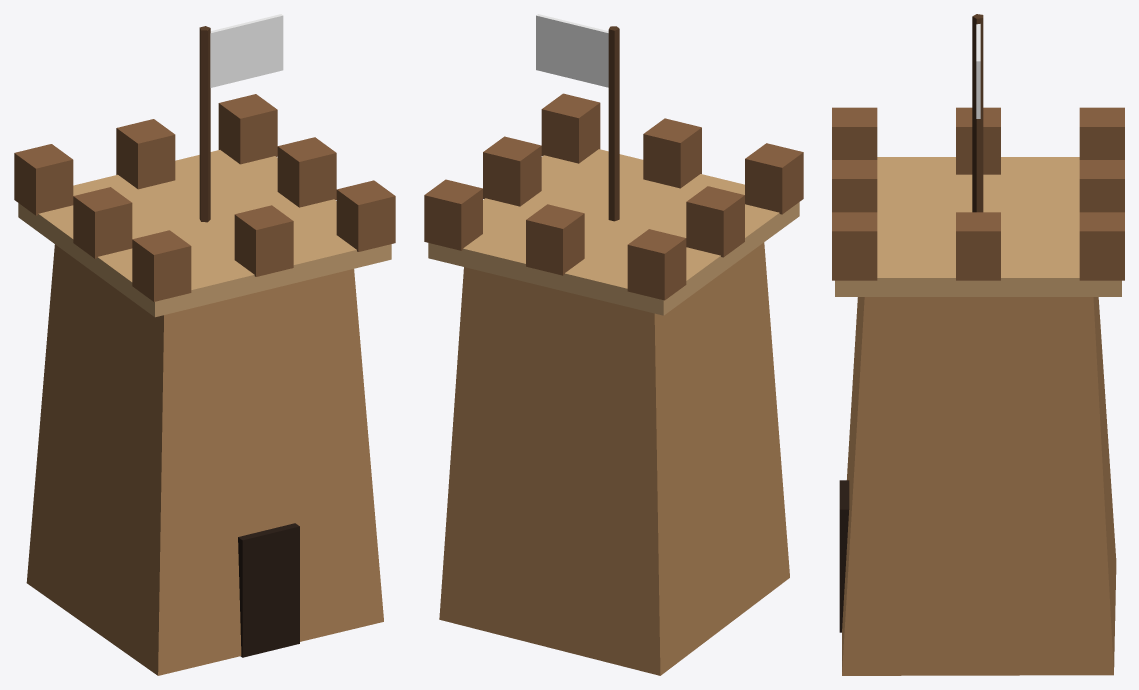
File: tower.glb
3 views of the same model, side by side, from view 1: azimuth 30°, elevation 25°; view 2: azimuth 150°, elevation 25°; view 3: azimuth 270°, elevation 25° (orthographic). The views are drawn at different scales.
Parts seen in each view (by area): view 1: part, part.001, part.010, part.012, part.002, part.005, part.007, part.003, part.004, part.008, part.009, part.006 (+1 smaller); view 2: part, part.001, part.012, part.004, part.009, part.007, part.006, part.002, part.003, part.008, part.005, part.011; view 3: part, part.001, part.007, part.009, part.008, part.002, part.004, part.005, part.006, part.003, part.011, part.010 (+1 smaller).
Part boxes in pixels (<box>): part: <box>26,244,383,675</box>; part.001: <box>18,150,391,317</box>; part.010: <box>238,523,299,657</box>; part.012: <box>210,14,283,87</box>; part.002: <box>132,230,191,301</box>; part.005: <box>234,205,293,276</box>; part.007: <box>336,180,395,251</box>; part.003: <box>73,187,132,258</box>; part.004: <box>14,144,73,215</box>; part.008: <box>277,137,336,207</box>; part.009: <box>218,94,277,164</box>; part.006: <box>116,119,175,189</box>; part: <box>439,242,789,675</box>; part.001: <box>428,149,799,315</box>; part.012: <box>536,14,608,87</box>; part.004: <box>627,229,686,300</box>; part.009: <box>424,179,482,250</box>; part.007: <box>541,93,600,163</box>; part.006: <box>526,204,584,275</box>; part.002: <box>745,143,803,214</box>; part.003: <box>686,186,744,257</box>; part.008: <box>483,136,541,206</box>; part.005: <box>643,118,701,188</box>; part.011: <box>608,26,619,221</box>; part: <box>842,297,1116,675</box>; part.001: <box>835,157,1121,296</box>; part.007: <box>832,212,877,280</box>; part.009: <box>1079,212,1124,280</box>; part.008: <box>956,212,1000,280</box>; part.002: <box>832,107,877,159</box>; part.004: <box>1079,107,1124,159</box>; part.005: <box>832,160,877,212</box>; part.006: <box>1079,160,1124,212</box>; part.003: <box>956,107,1000,174</box>; part.011: <box>972,14,983,212</box>; part.010: <box>839,480,849,632</box>.
Size of the model in its own units: 1.94 by 4.41 by 1.94.
